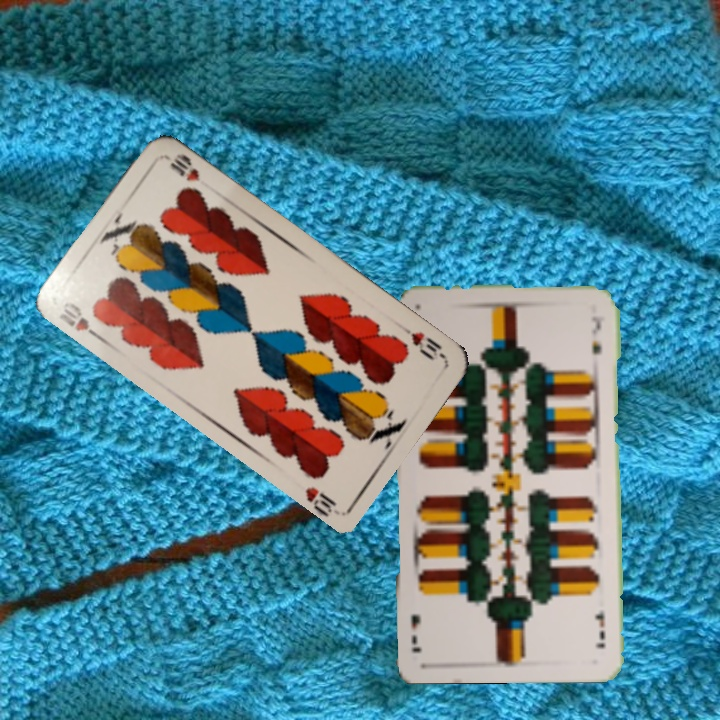E7: (591, 606, 608, 651)
H10: (55, 297, 105, 343), (397, 322, 449, 364)
